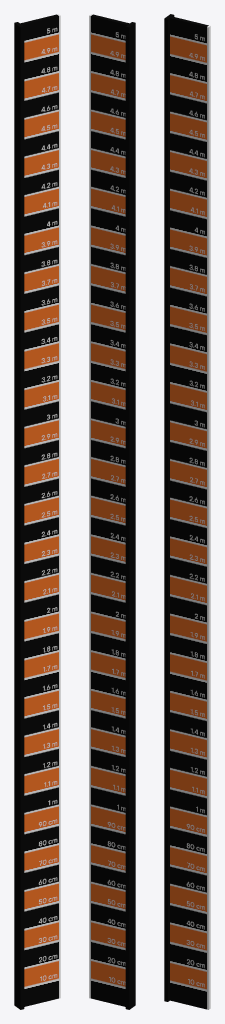
The model's file is Slim Ruler.fbx.
3 renders of one model, left to right at view 1: azimuth 30°, elevation 25°; view 2: azimuth 150°, elevation 25°; view 3: azimuth 330°, elevation 25°, orthographic.
Parts seen in each view (by area): view 1: Slim Ruler; view 2: Slim Ruler; view 3: Slim Ruler.
Boxes of the visible parts, left/top/right/bottom form: Slim Ruler: left=14, top=14, right=60, bottom=1009; Slim Ruler: left=89, top=14, right=135, bottom=1009; Slim Ruler: left=164, top=14, right=210, bottom=1009.
Bounding box in the file's own units: 0.2298 × 5.09 × 0.06.
